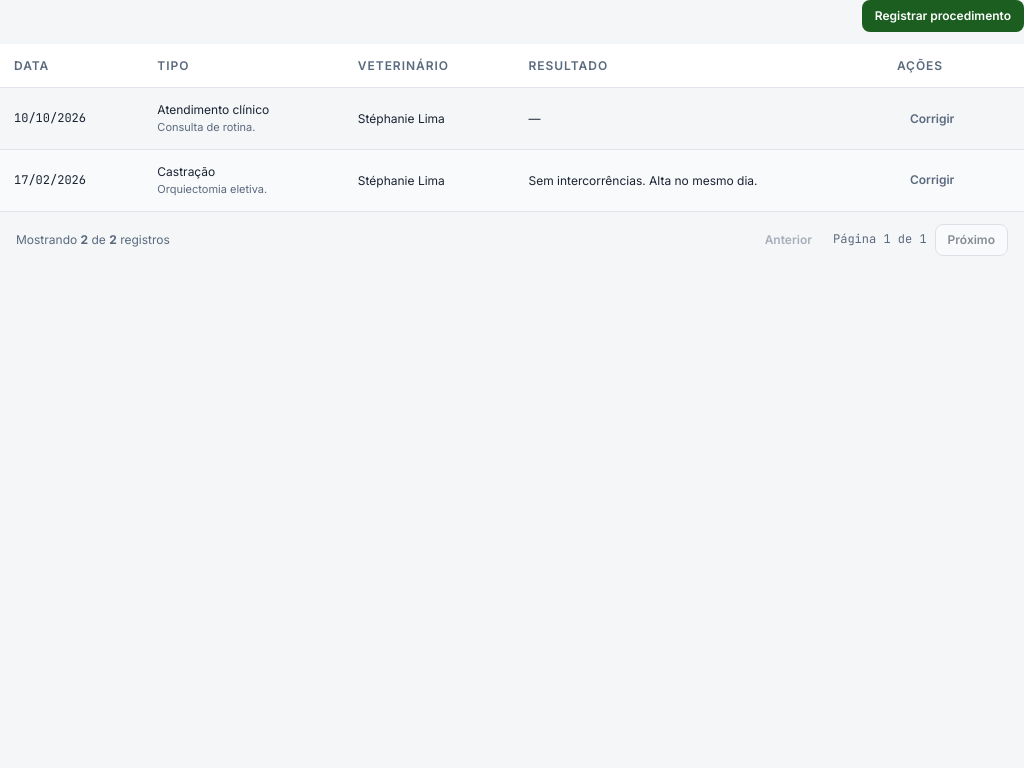
Scenario: ModalRegistrarProcedimento › registra um novo procedimento e a lista reflete o novo registro
The width and height of the screenshot is (1024, 768).
Expected: the text "Castração" is shown, [157,164,215,179]
Step 1. Click the button "Registrar procedimento" → (943, 16), box [862,0,1023,32]
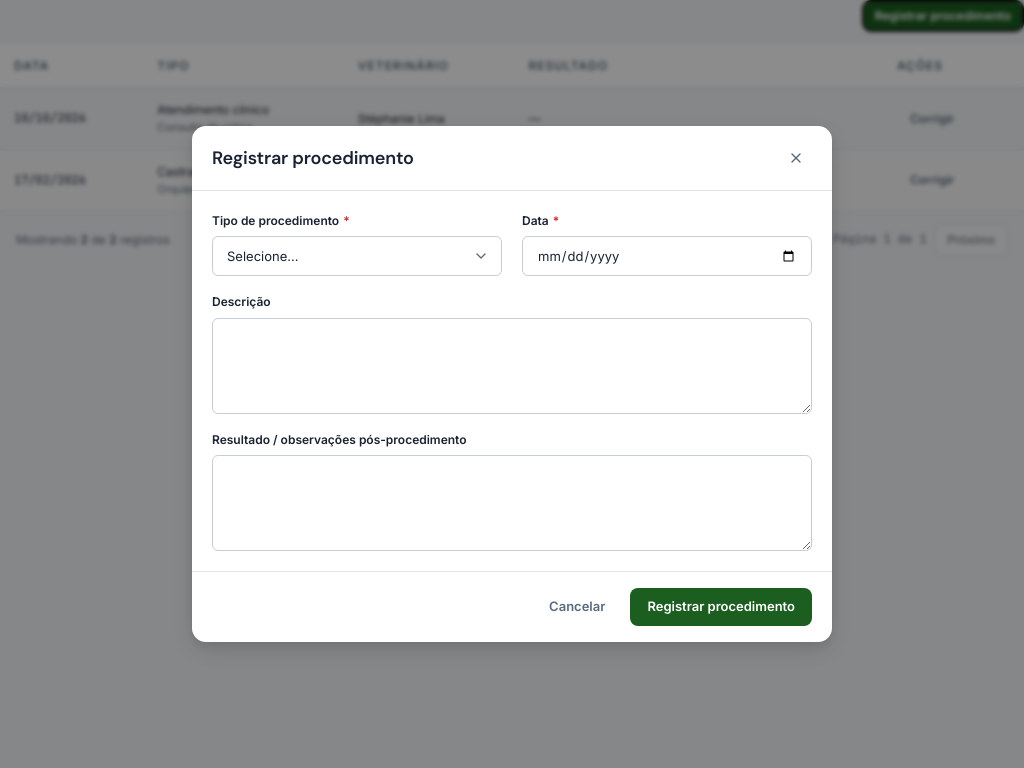
Step 2. Select "Vacinação" in the dropdown labelled "Tipo de procedimento *" → (357, 256), box [212,236,502,276]
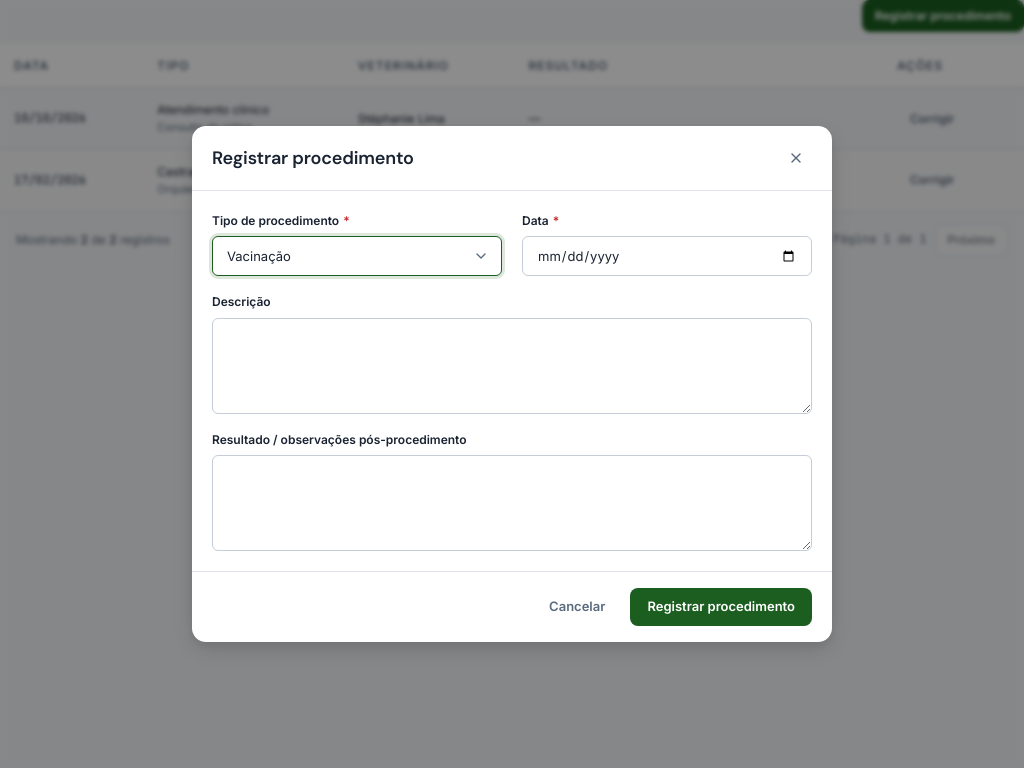
Step 3. Type "2026-05-01" into the date field labelled "Data *" → (667, 256), box [522,236,812,276]
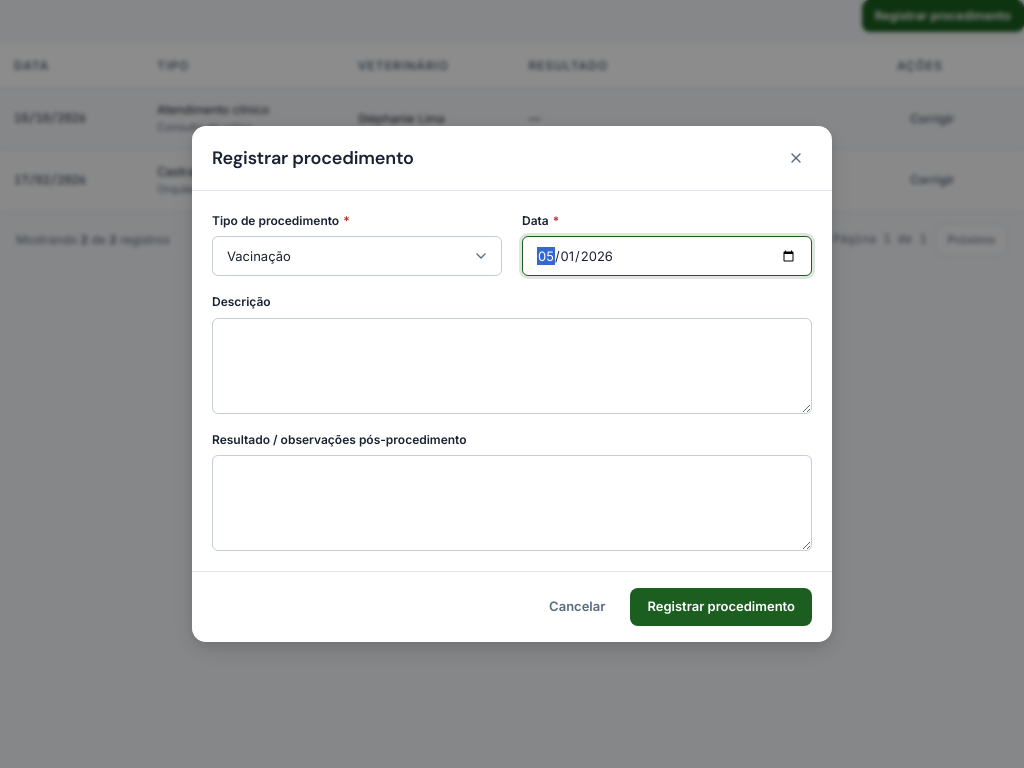
Step 4. Type "Hemograma completo." into the text box labelled "Descrição" → (512, 366), box [212,318,812,414]
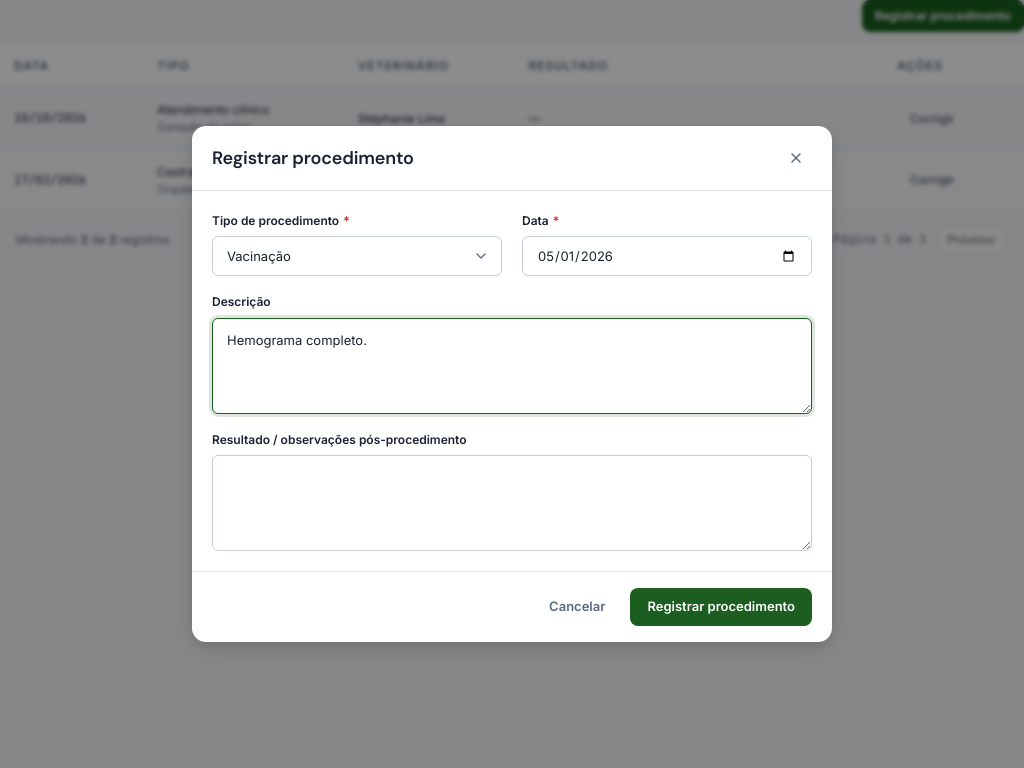
Step 5. Click the button "Registrar procedimento" → (721, 607), box [630,588,812,626]
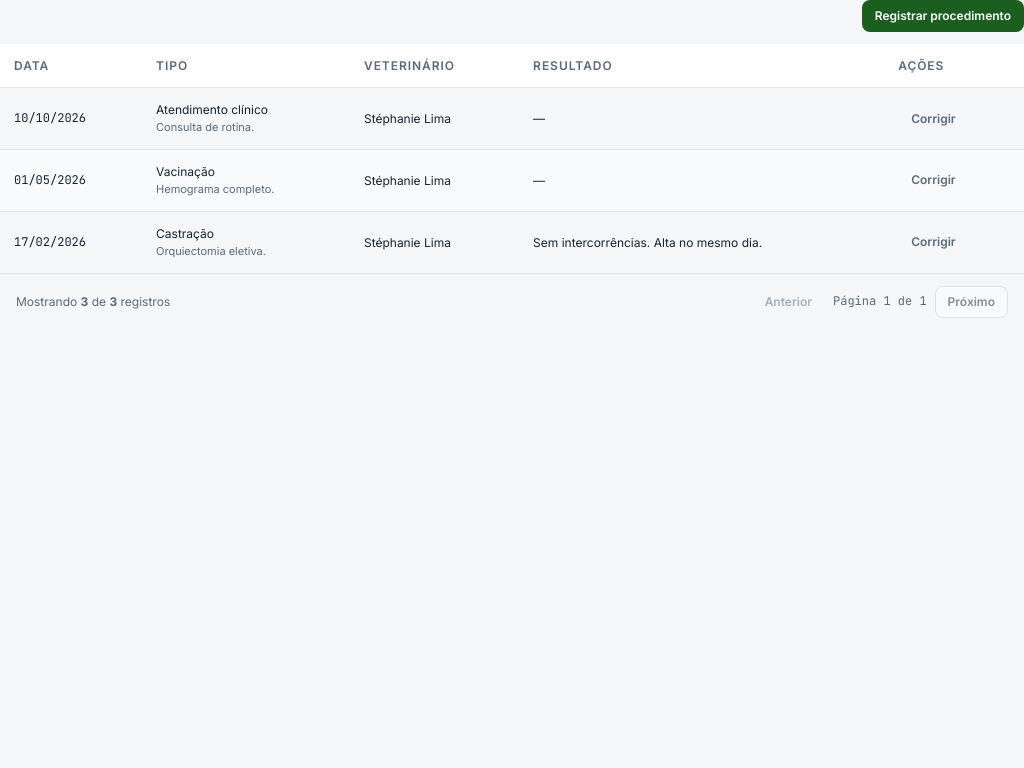
Now the text "Hemograma completo." is shown, box [156,182,274,196]
